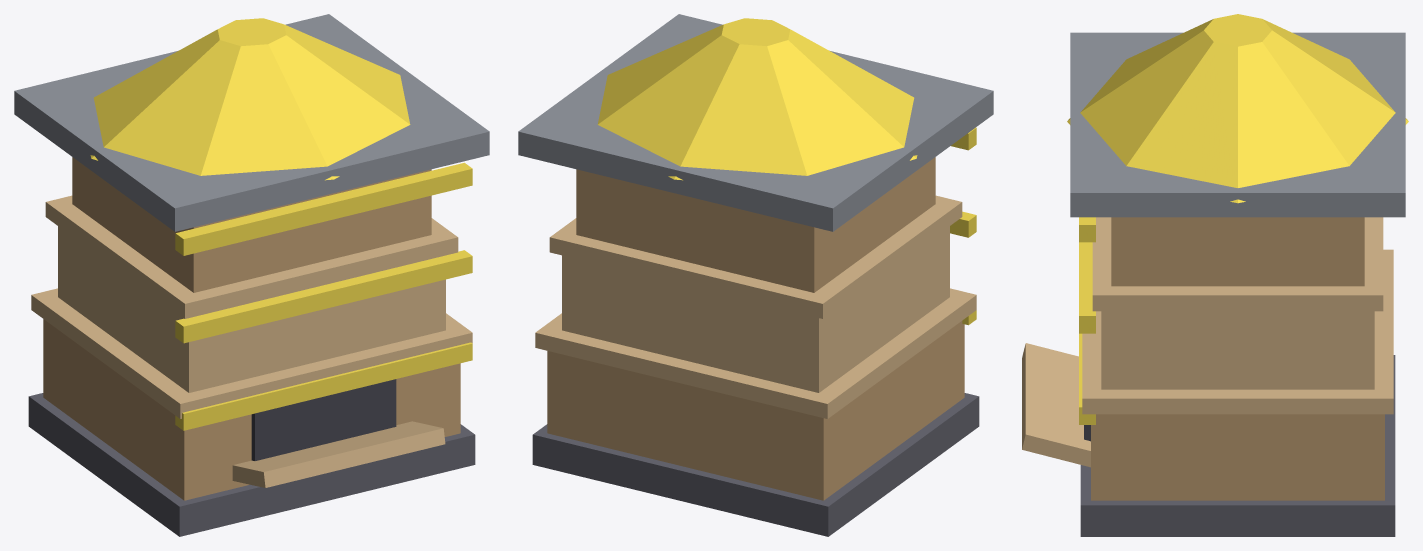
Rendered from hive.glb.
3 views of the same model, side by side, from view 1: azimuth 30°, elevation 25°; view 2: azimuth 150°, elevation 25°; view 3: azimuth 270°, elevation 25° (orthographic). The views are drawn at different scales.
Visible parts, largest first — view 1: hive; view 2: hive; view 3: hive.
Boxes of the visible parts, box(x1,y1,x2,y2) form: hive: box(14, 14, 489, 536); hive: box(518, 14, 993, 536); hive: box(1022, 14, 1408, 536).
Bounding box in the file's own units: 1 × 1.23 × 1.
